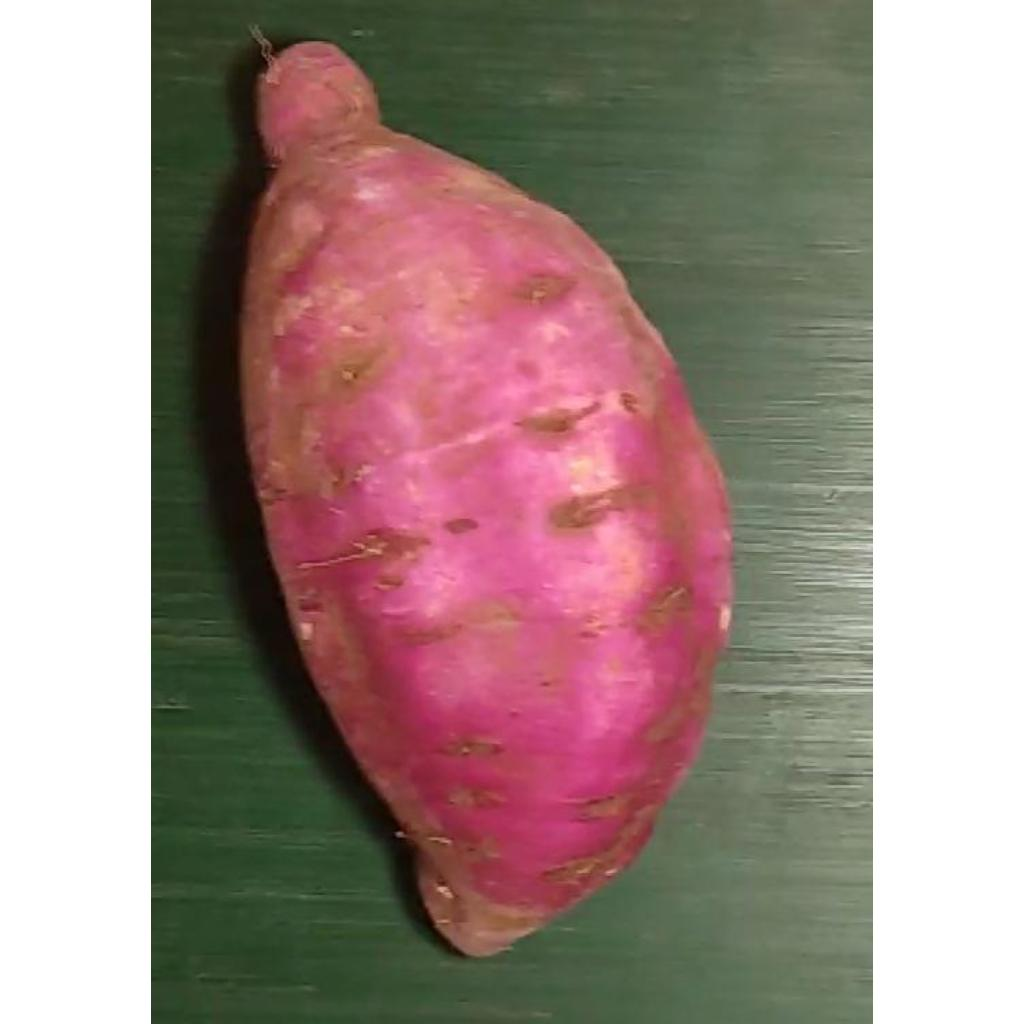Sweet Potato: (237, 41, 736, 957)
